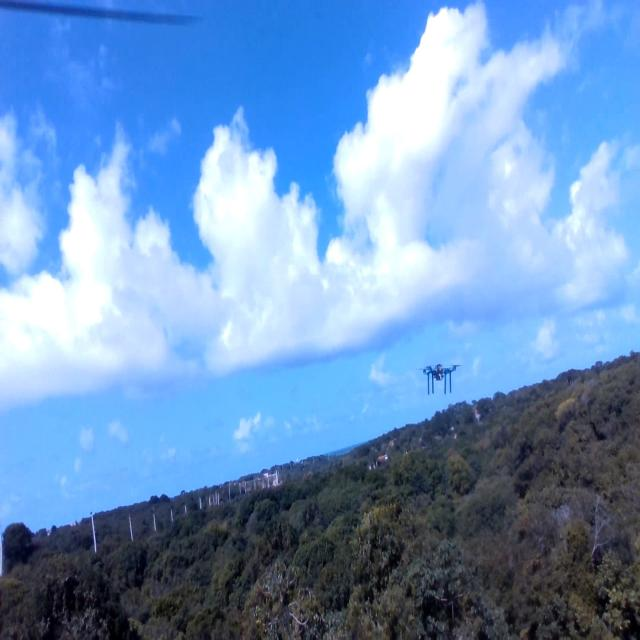-uav-: (416, 358, 463, 398)
